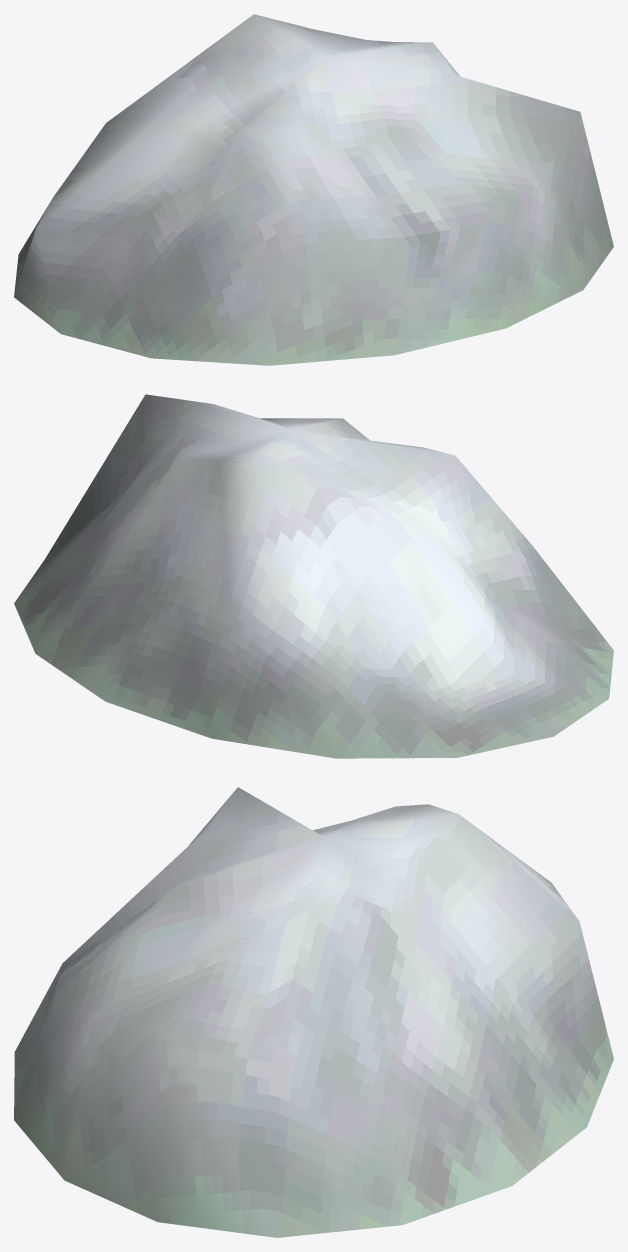
Rendered from TROLLHOLE02_STONEA26.fbx.
The picture shows the model from 3 angles, top to bottom: view 1: azimuth 30°, elevation 25°; view 2: azimuth 150°, elevation 25°; view 3: azimuth 270°, elevation 25°; orthographic projection. The views are drawn at different scales.
Parts seen in each view (by area): view 1: TROLLHOLE02_STONEA26; view 2: TROLLHOLE02_STONEA26; view 3: TROLLHOLE02_STONEA26.
Part boxes in pixels (x1,y1,x2,y2): TROLLHOLE02_STONEA26: [14, 14, 613, 365]; TROLLHOLE02_STONEA26: [14, 394, 613, 758]; TROLLHOLE02_STONEA26: [14, 787, 613, 1237].
Bounding box in the file's own units: 13333 × 4918 × 10321.
1 material, 1 textured.
